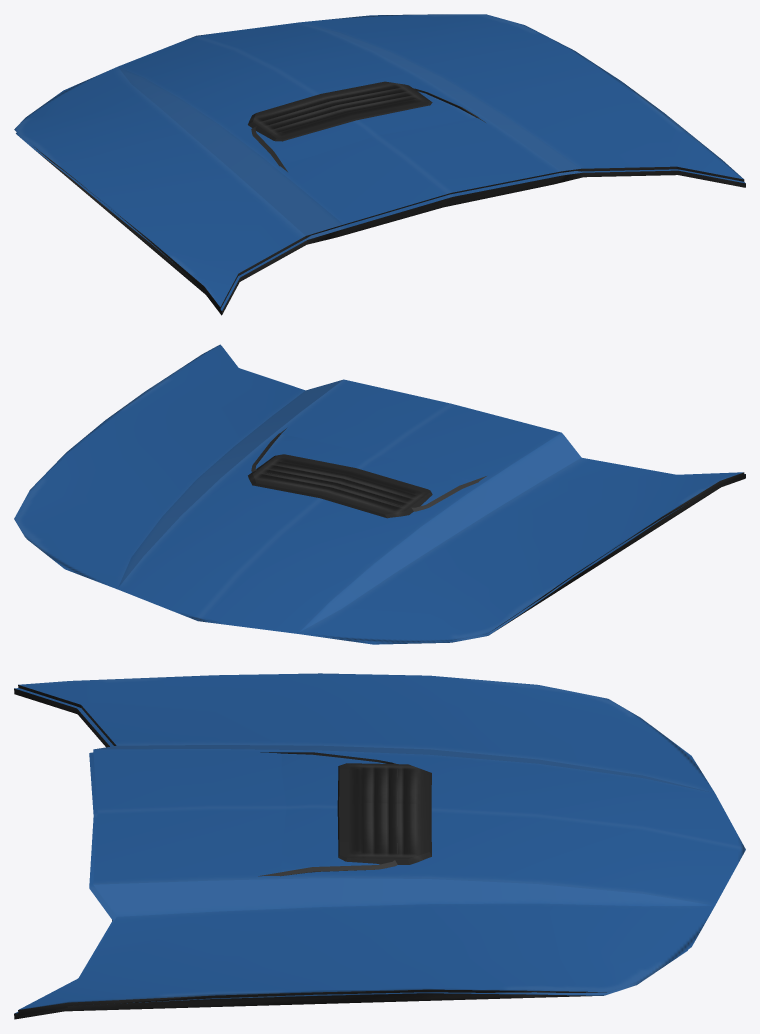
Rendered from ATA_Samara_items.fbx.
3 views of the same model, one above another, from view 1: azimuth 30°, elevation 25°; view 2: azimuth 150°, elevation 25°; view 3: azimuth 270°, elevation 25° (orthographic). The views are drawn at different scales.
Parts seen in each view (by area): view 1: Hood2_obj, Hood3_obj; view 2: Hood2_obj, Hood3_obj; view 3: Hood2_obj, Hood3_obj.
Part boxes in pixels (left/top/right/bottom): Hood2_obj: left=14, top=14, right=744, bottom=311; Hood3_obj: left=16, top=88, right=745, bottom=315; Hood2_obj: left=14, top=344, right=744, bottom=642; Hood3_obj: left=27, top=346, right=745, bottom=644; Hood2_obj: left=18, top=673, right=745, bottom=1015; Hood3_obj: left=14, top=688, right=687, bottom=1019.
Size of the model in its own units: 70.56 by 5.14 by 67.1.
